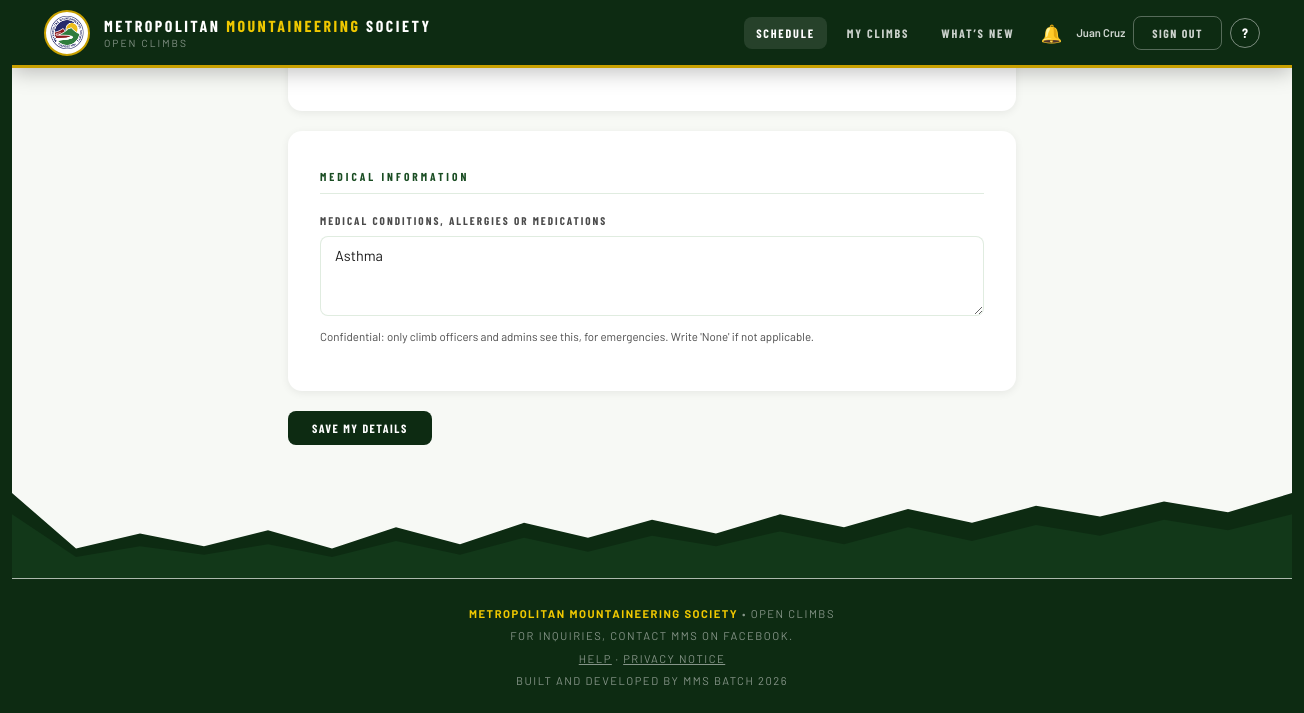
Test: My Details page › explains when saving fails
(page scrolled)
Click the button "Save My Details" at point(360, 428), box [288,411,432,445]
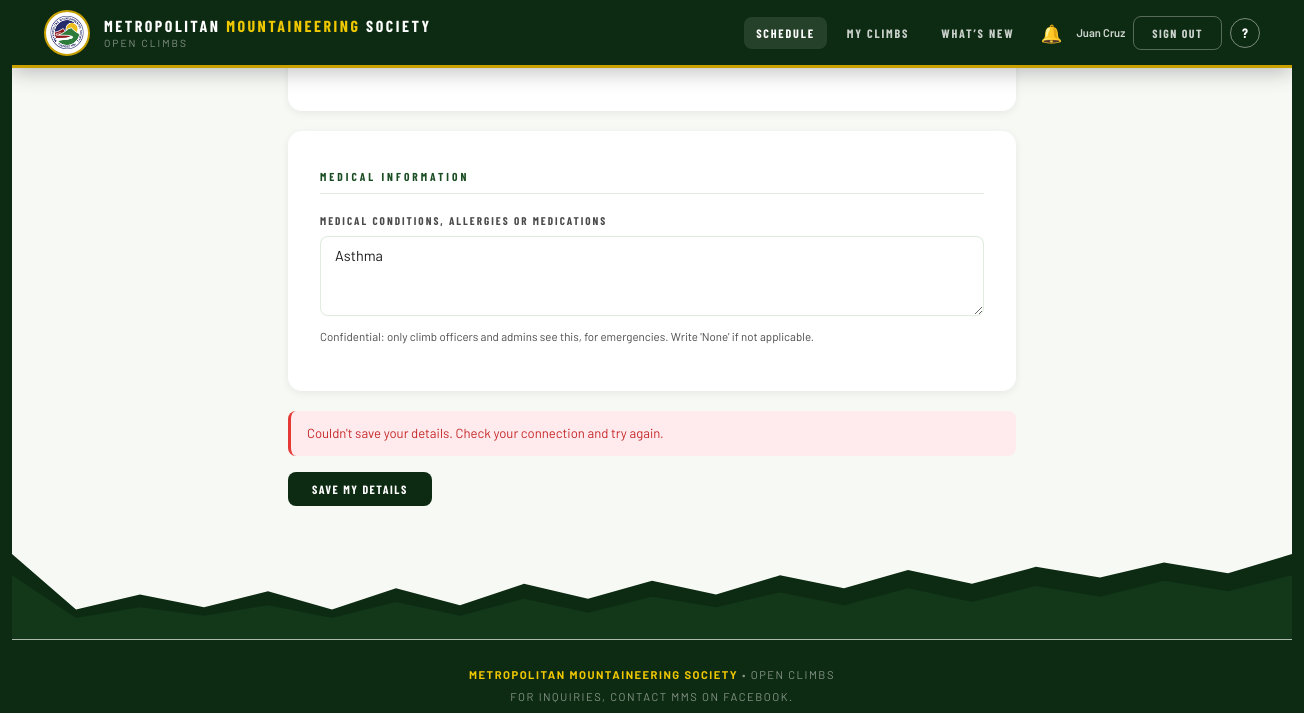
Expected: the message shows "Couldn't save your details", [307,425,664,441]
